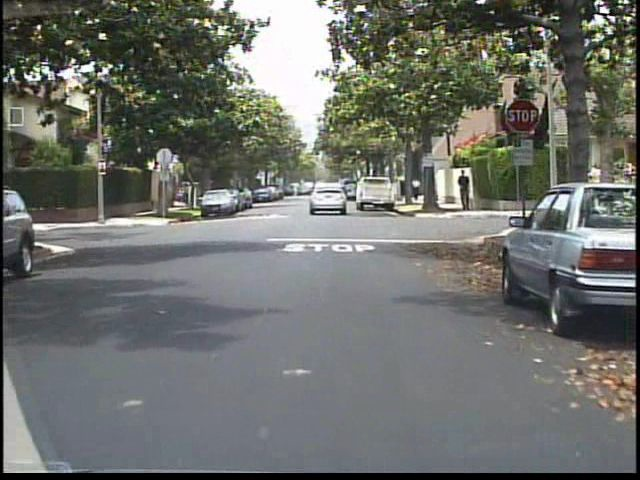person: (456, 168, 477, 216), (179, 178, 195, 208), (412, 174, 424, 203)
